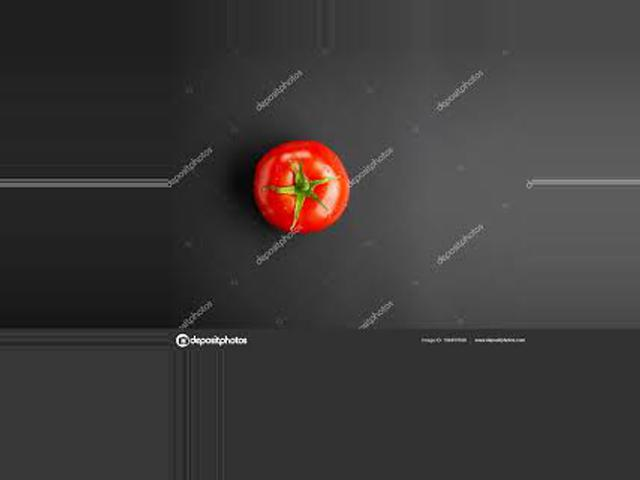tomato: (254, 139, 351, 234)
